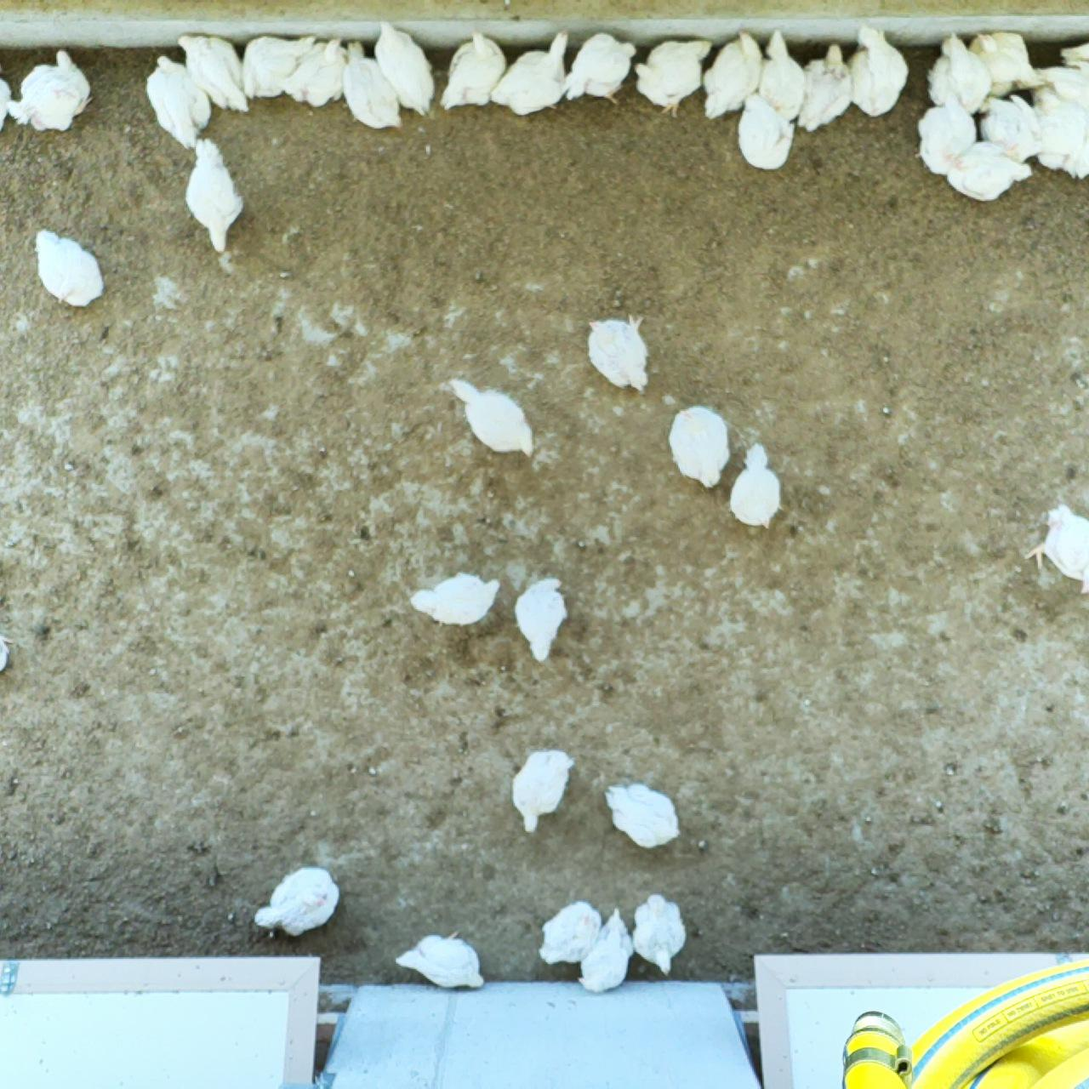chicken: (4, 47, 96, 134), (183, 135, 249, 256), (488, 27, 572, 118), (447, 375, 537, 458), (250, 861, 345, 939), (142, 53, 212, 153), (1019, 501, 1089, 600), (372, 16, 438, 117), (174, 31, 252, 116), (634, 38, 714, 120), (847, 19, 911, 121), (32, 227, 108, 311), (437, 25, 508, 112), (508, 748, 578, 835), (701, 28, 765, 123), (341, 37, 405, 132), (945, 137, 1034, 205), (392, 927, 486, 991), (560, 31, 638, 107), (602, 780, 683, 852), (912, 92, 978, 180), (409, 570, 503, 631), (666, 403, 731, 491), (584, 311, 651, 394), (241, 31, 318, 102), (965, 28, 1044, 97), (796, 41, 854, 134), (1030, 93, 1089, 181), (730, 441, 787, 532), (734, 90, 797, 172), (630, 890, 688, 979), (511, 575, 569, 664), (576, 906, 634, 994), (976, 93, 1047, 162), (279, 36, 346, 108), (757, 28, 806, 125), (538, 898, 603, 966), (947, 33, 994, 117), (1029, 62, 1089, 106), (925, 37, 954, 107), (1058, 38, 1089, 74), (0, 77, 19, 132)
